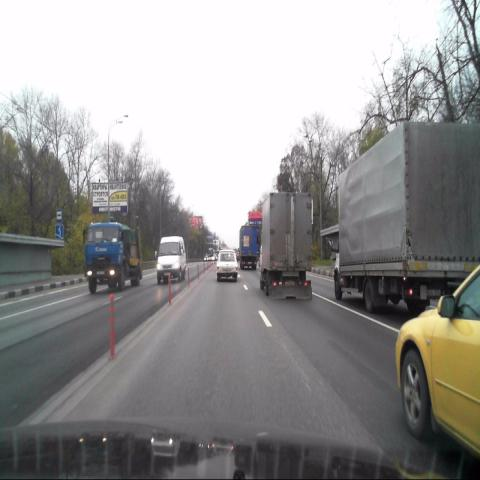6_6: (55, 225, 63, 239)
